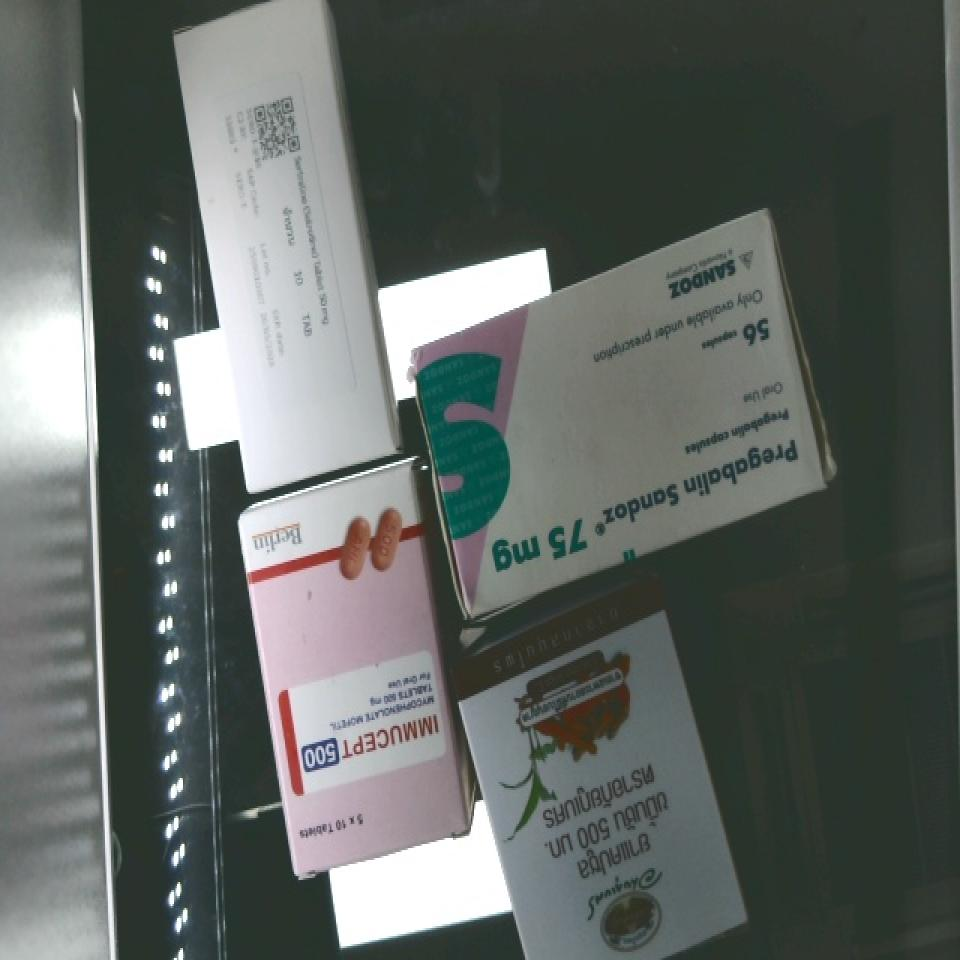medicine_box: (364, 206, 868, 623), (442, 576, 748, 960), (170, 0, 402, 493), (233, 461, 473, 882)
medicine_label_obb: (454, 407, 831, 609), (506, 732, 709, 902), (284, 699, 454, 791)
qr_code: (230, 78, 315, 185)
